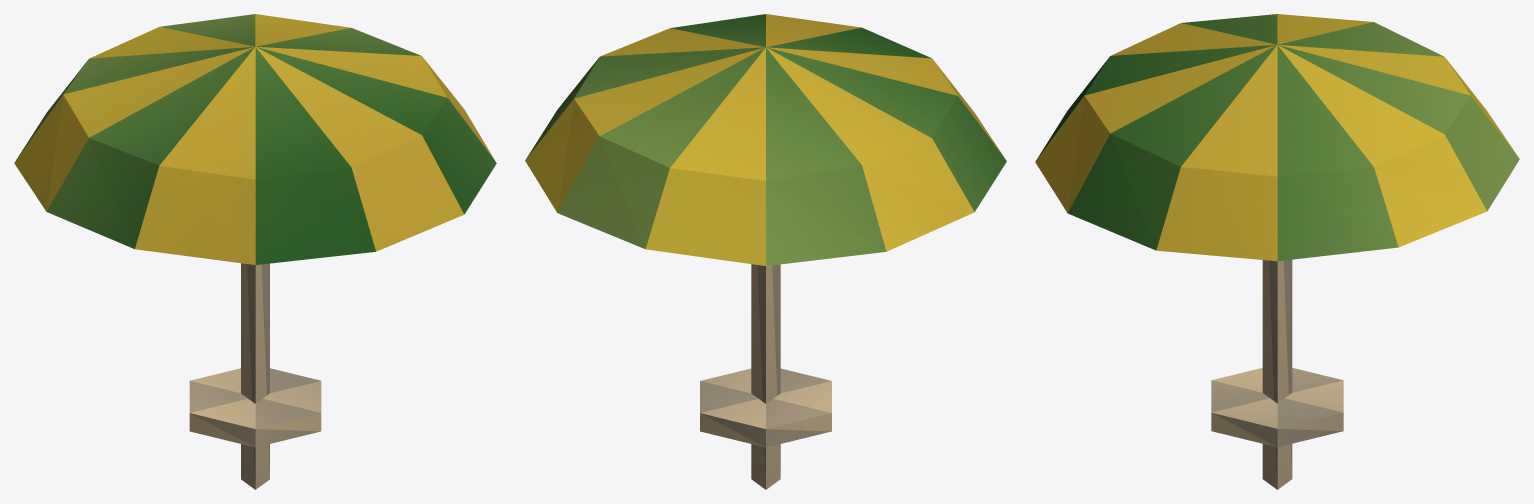
File: Umbrella_2.fbx
The picture shows the model from 3 angles, left to right: view 1: azimuth 30°, elevation 25°; view 2: azimuth 150°, elevation 25°; view 3: azimuth 270°, elevation 25°; orthographic projection.
Visible parts, largest first — view 1: polySurface174; view 2: polySurface174; view 3: polySurface174.
Boxes of the visible parts, x1,y1,x2,y2 form: polySurface174: [14, 14, 496, 489]; polySurface174: [525, 14, 1006, 489]; polySurface174: [1035, 14, 1519, 489].
Size of the model in its own units: 285 by 284 by 285.
